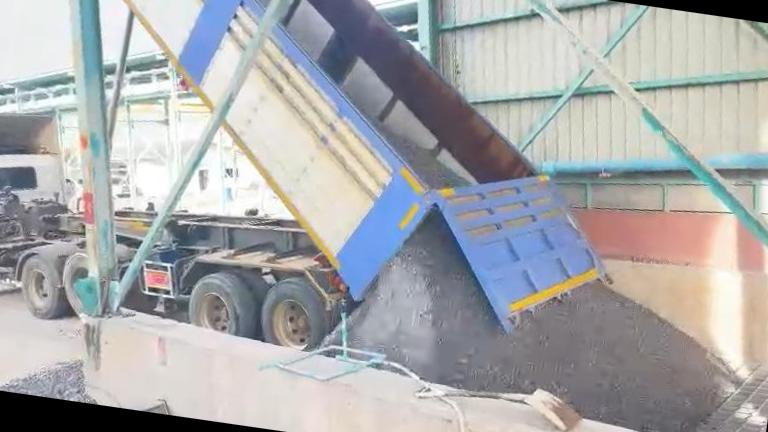gravel: (348, 214, 736, 432), (386, 131, 469, 186), (0, 360, 96, 404)
